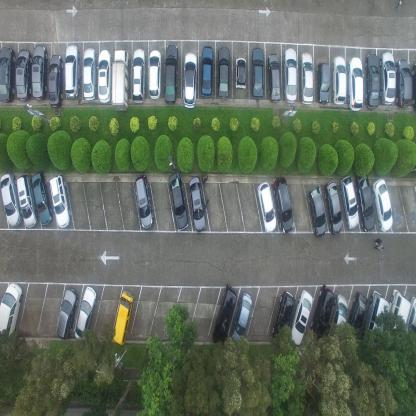car: (212, 284, 238, 346), (362, 289, 390, 344), (385, 289, 411, 347), (0, 282, 23, 347), (310, 284, 335, 340), (271, 290, 295, 346), (289, 289, 313, 345), (48, 174, 72, 229), (15, 172, 38, 228), (168, 171, 189, 232), (354, 171, 375, 232), (30, 172, 53, 227), (0, 172, 23, 227), (74, 284, 96, 340), (112, 289, 134, 345), (273, 176, 293, 235), (56, 286, 78, 339), (372, 177, 393, 232), (110, 48, 128, 112), (326, 294, 348, 345), (324, 180, 343, 236), (340, 174, 359, 230), (256, 180, 276, 233), (232, 292, 252, 345), (188, 175, 206, 233), (135, 174, 154, 228), (31, 42, 48, 100), (347, 291, 367, 340), (0, 45, 16, 104), (182, 50, 198, 108), (308, 185, 326, 236), (164, 43, 179, 104), (348, 56, 364, 113), (16, 46, 32, 102), (396, 59, 413, 111), (47, 54, 63, 109), (283, 46, 298, 104), (365, 51, 380, 108), (64, 44, 79, 98), (300, 50, 314, 105), (381, 51, 395, 106), (97, 49, 111, 104), (131, 48, 145, 103), (332, 55, 347, 106), (82, 48, 96, 102), (200, 44, 213, 99), (217, 45, 230, 99), (268, 52, 281, 104), (251, 47, 264, 99), (148, 48, 161, 100), (317, 60, 330, 104), (404, 296, 416, 342), (234, 57, 246, 90), (412, 62, 416, 111)
